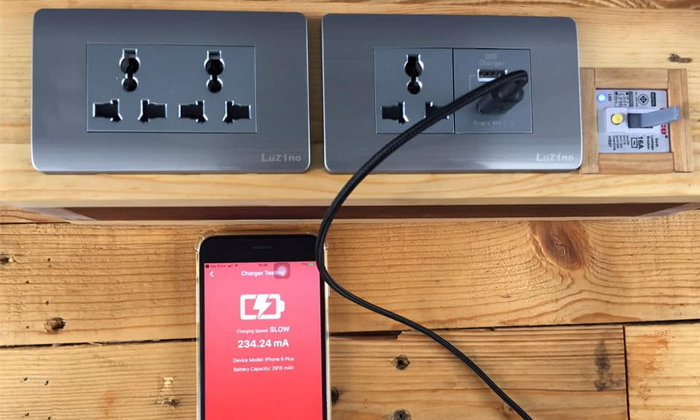Three_eye_plug: (29, 6, 314, 181), (319, 12, 586, 176)
